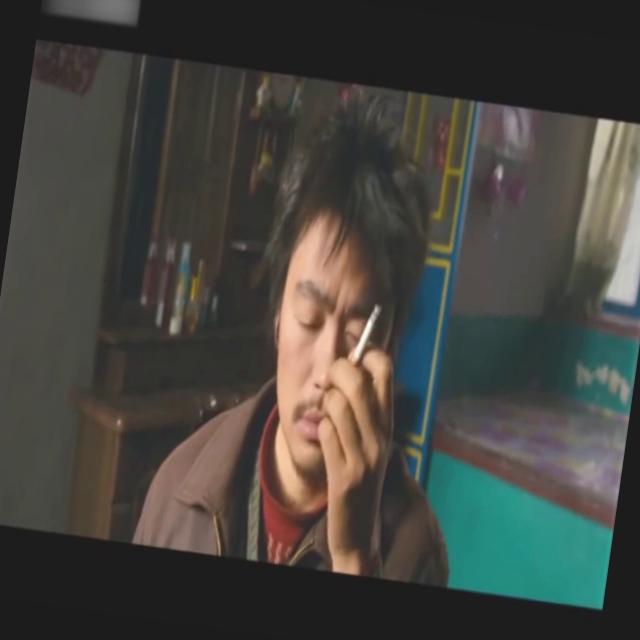smoke: (348, 300, 383, 370)
